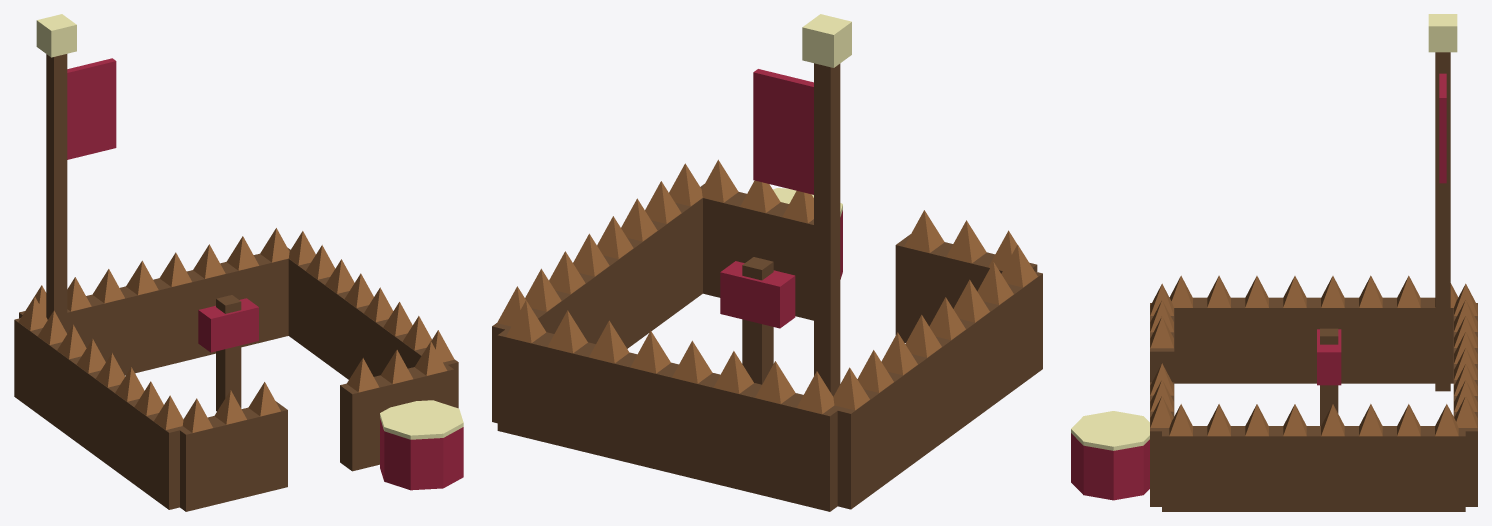
File: pit.glb
3 views of the same model, side by side, from view 1: azimuth 30°, elevation 25°; view 2: azimuth 150°, elevation 25°; view 3: azimuth 270°, elevation 25° (orthographic). The views are drawn at different scales.
Parts seen in each view (by area): view 1: Model; view 2: Model; view 3: Model.
Boxes of the visible parts, bbox=[...] form: Model: bbox=[14, 14, 463, 511]; Model: bbox=[492, 14, 1042, 511]; Model: bbox=[1071, 14, 1477, 511].
Size of the model in its own units: 2.16 by 2.67 by 2.68.
